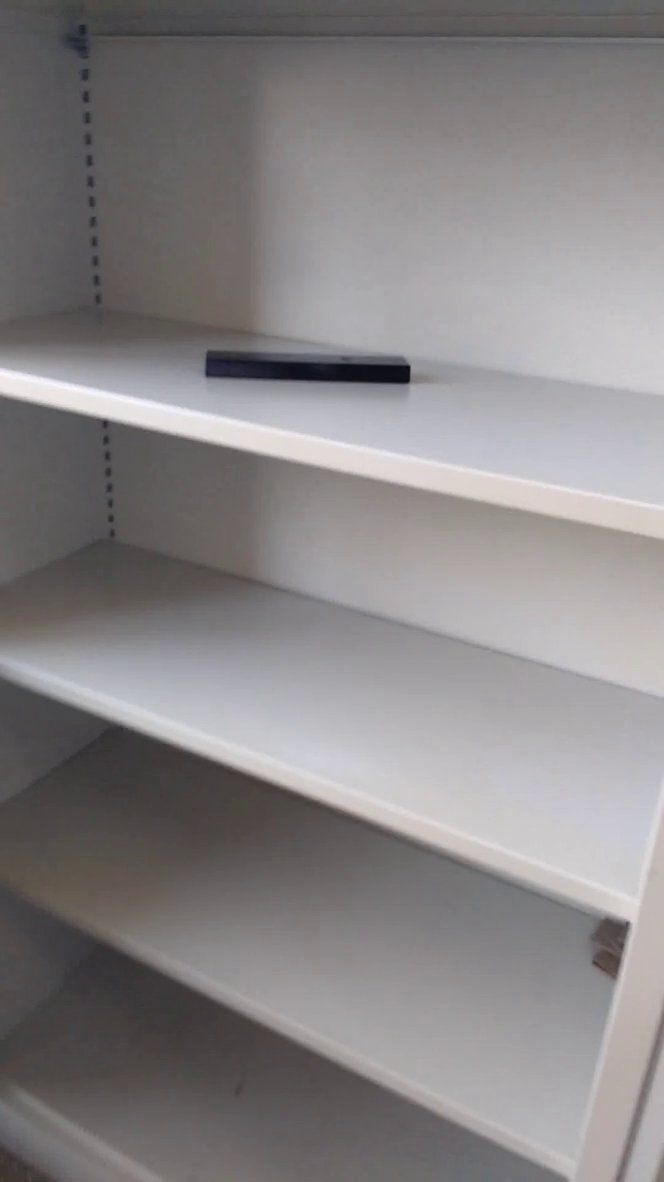remote: (191, 342, 427, 405)
